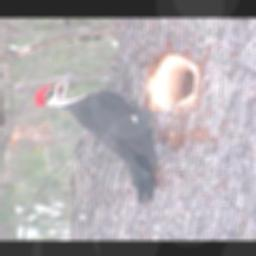Woodpecker: (31, 71, 187, 202)
